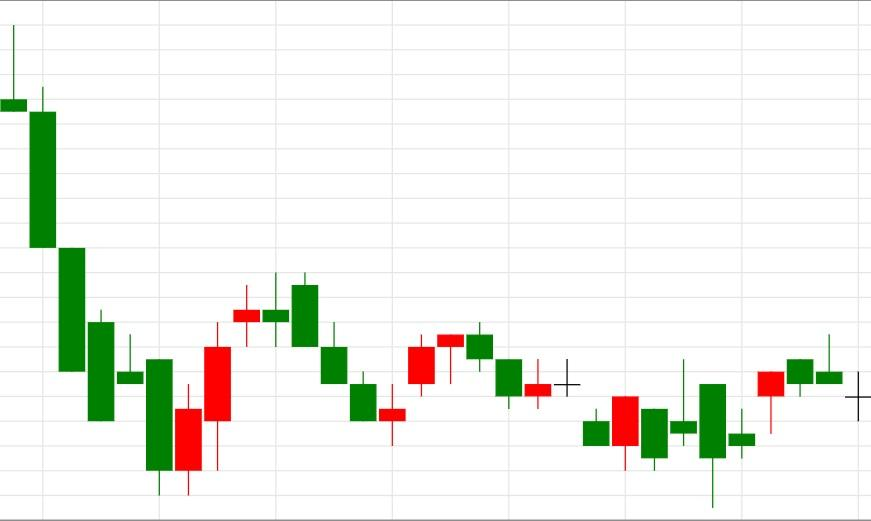three_black_crows_fall: (174, 272, 377, 497)
three_white_soldiers_rise: (0, 26, 260, 497), (290, 272, 465, 447)
